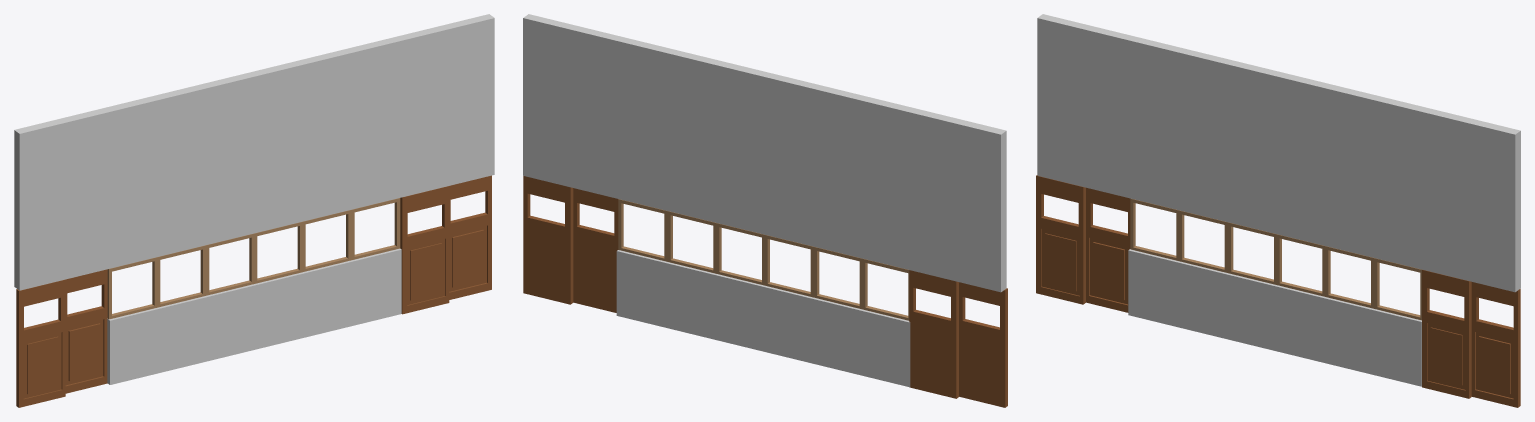
3 renders of one model, left to right at view 1: azimuth 30°, elevation 25°; view 2: azimuth 150°, elevation 25°; view 3: azimuth 330°, elevation 25°, orthographic.
Visible parts, largest first — view 1: Cube.002, Cube.010, Cube, Cube.006, Cube.001, Cube.007, Cube.005, Cube.009, Cube.008, Cube.003, Cube.004; view 2: Cube.002, Cube.006, Cube.010, Cube, Cube.001, Cube.008, Cube.005, Cube.004, Cube.003, Cube.009, Cube.007; view 3: Cube.002, Cube.001, Cube.010, Cube, Cube.006, Cube.004, Cube.007, Cube.008, Cube.003, Cube.009, Cube.005.
Boxes of the visible parts, box(x1,y1,x2,y2) form: Cube.002: box(14, 14, 494, 290); Cube.010: box(107, 284, 256, 384); Cube: box(255, 248, 401, 349); Cube.006: box(16, 269, 107, 407); Cube.001: box(400, 175, 491, 314); Cube.007: box(107, 257, 157, 319); Cube.005: box(351, 198, 400, 260); Cube.009: box(206, 233, 254, 295); Cube.008: box(157, 245, 205, 307); Cube.003: box(254, 222, 302, 283); Cube.004: box(302, 210, 351, 271); Cube.002: box(523, 14, 1006, 292); Cube.006: box(909, 270, 1007, 407); Cube.010: box(763, 286, 910, 387); Cube: box(616, 250, 764, 351); Cube.001: box(523, 176, 618, 312); Cube.008: box(813, 247, 862, 309); Cube.005: box(618, 199, 667, 261); Cube.004: box(667, 211, 716, 273); Cube.003: box(716, 223, 764, 285); Cube.009: box(765, 235, 813, 297); Cube.007: box(862, 258, 909, 320); Cube.002: box(1037, 14, 1520, 292); Cube.001: box(1422, 269, 1520, 407); Cube.010: box(1128, 249, 1275, 350); Cube: box(1274, 285, 1421, 386); Cube.006: box(1036, 175, 1130, 312); Cube.004: box(1325, 246, 1374, 308); Cube.007: box(1130, 198, 1179, 260); Cube.008: box(1179, 210, 1227, 272); Cube.003: box(1276, 234, 1325, 296); Cube.009: box(1228, 222, 1276, 284); Cube.005: box(1374, 258, 1421, 320).
Size of the model in its own units: 3244 by 1782 by 67.23.
